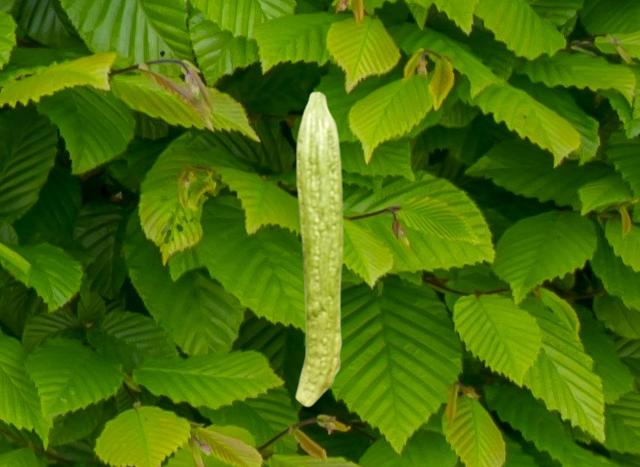ampalaya: (292, 89, 345, 409)
